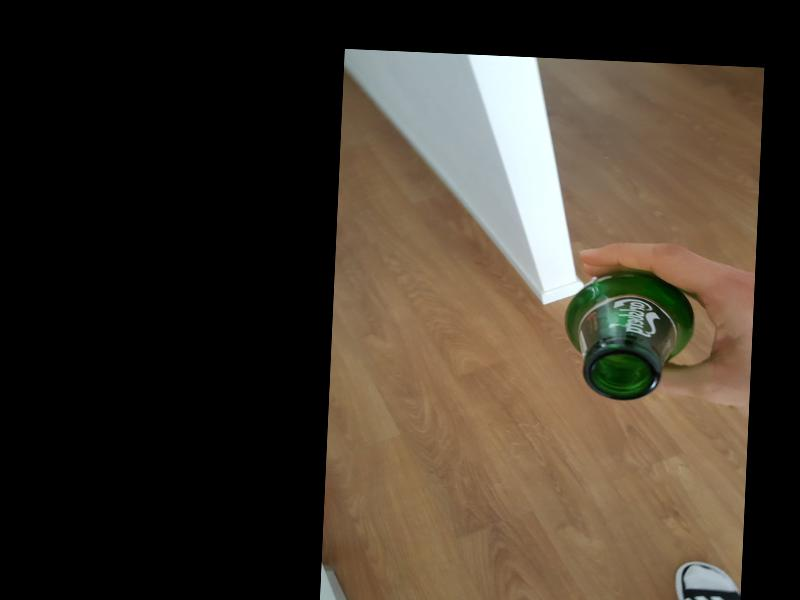Beer: (561, 268, 699, 403)
